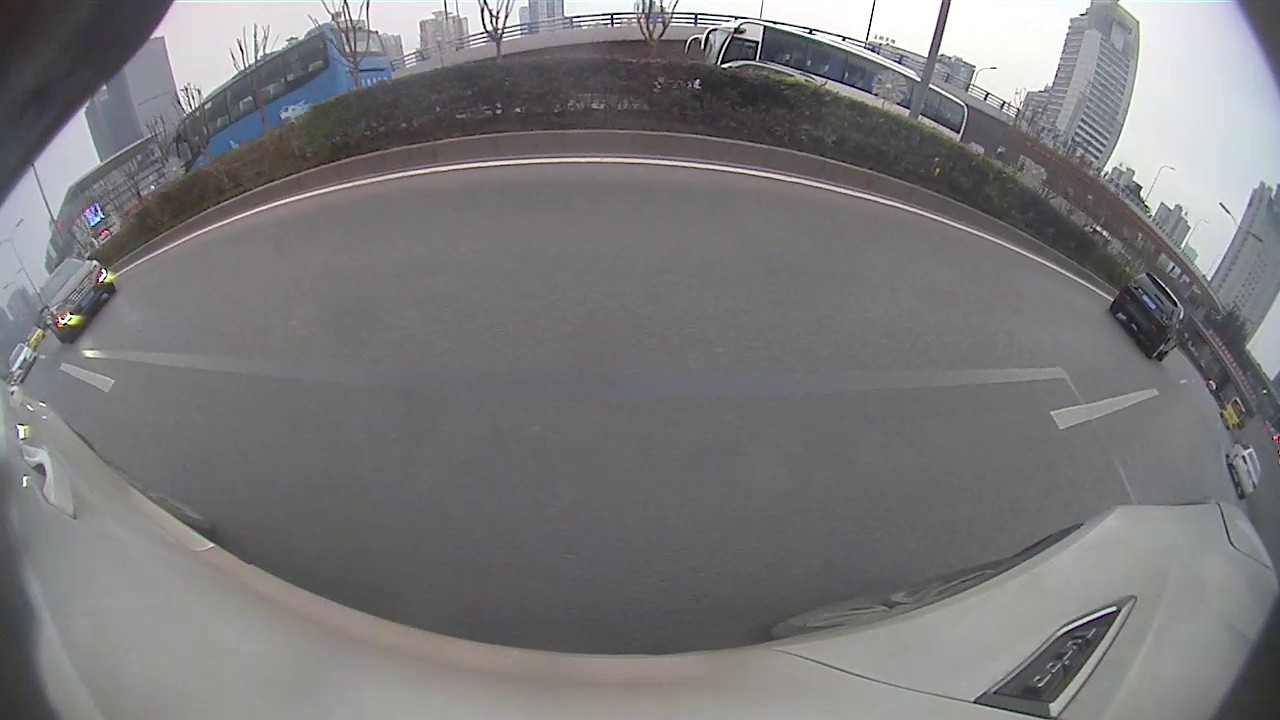bus: (700, 17, 968, 143), (174, 21, 391, 175)
car: (34, 257, 116, 343), (1110, 269, 1185, 362), (1228, 443, 1260, 497)
